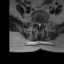CCS_normal: (38, 21, 40, 30)
LFS_stenosis: (42, 20, 44, 27)
LLS_stenosis: (40, 20, 42, 28)
RFS_normal: (34, 20, 36, 26)
RLS_stenosis: (36, 20, 38, 27)
